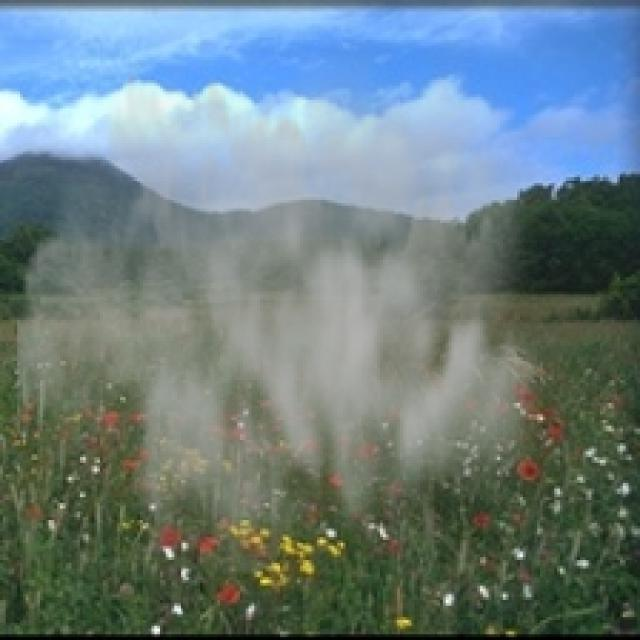smoke: (17, 17, 574, 574)
